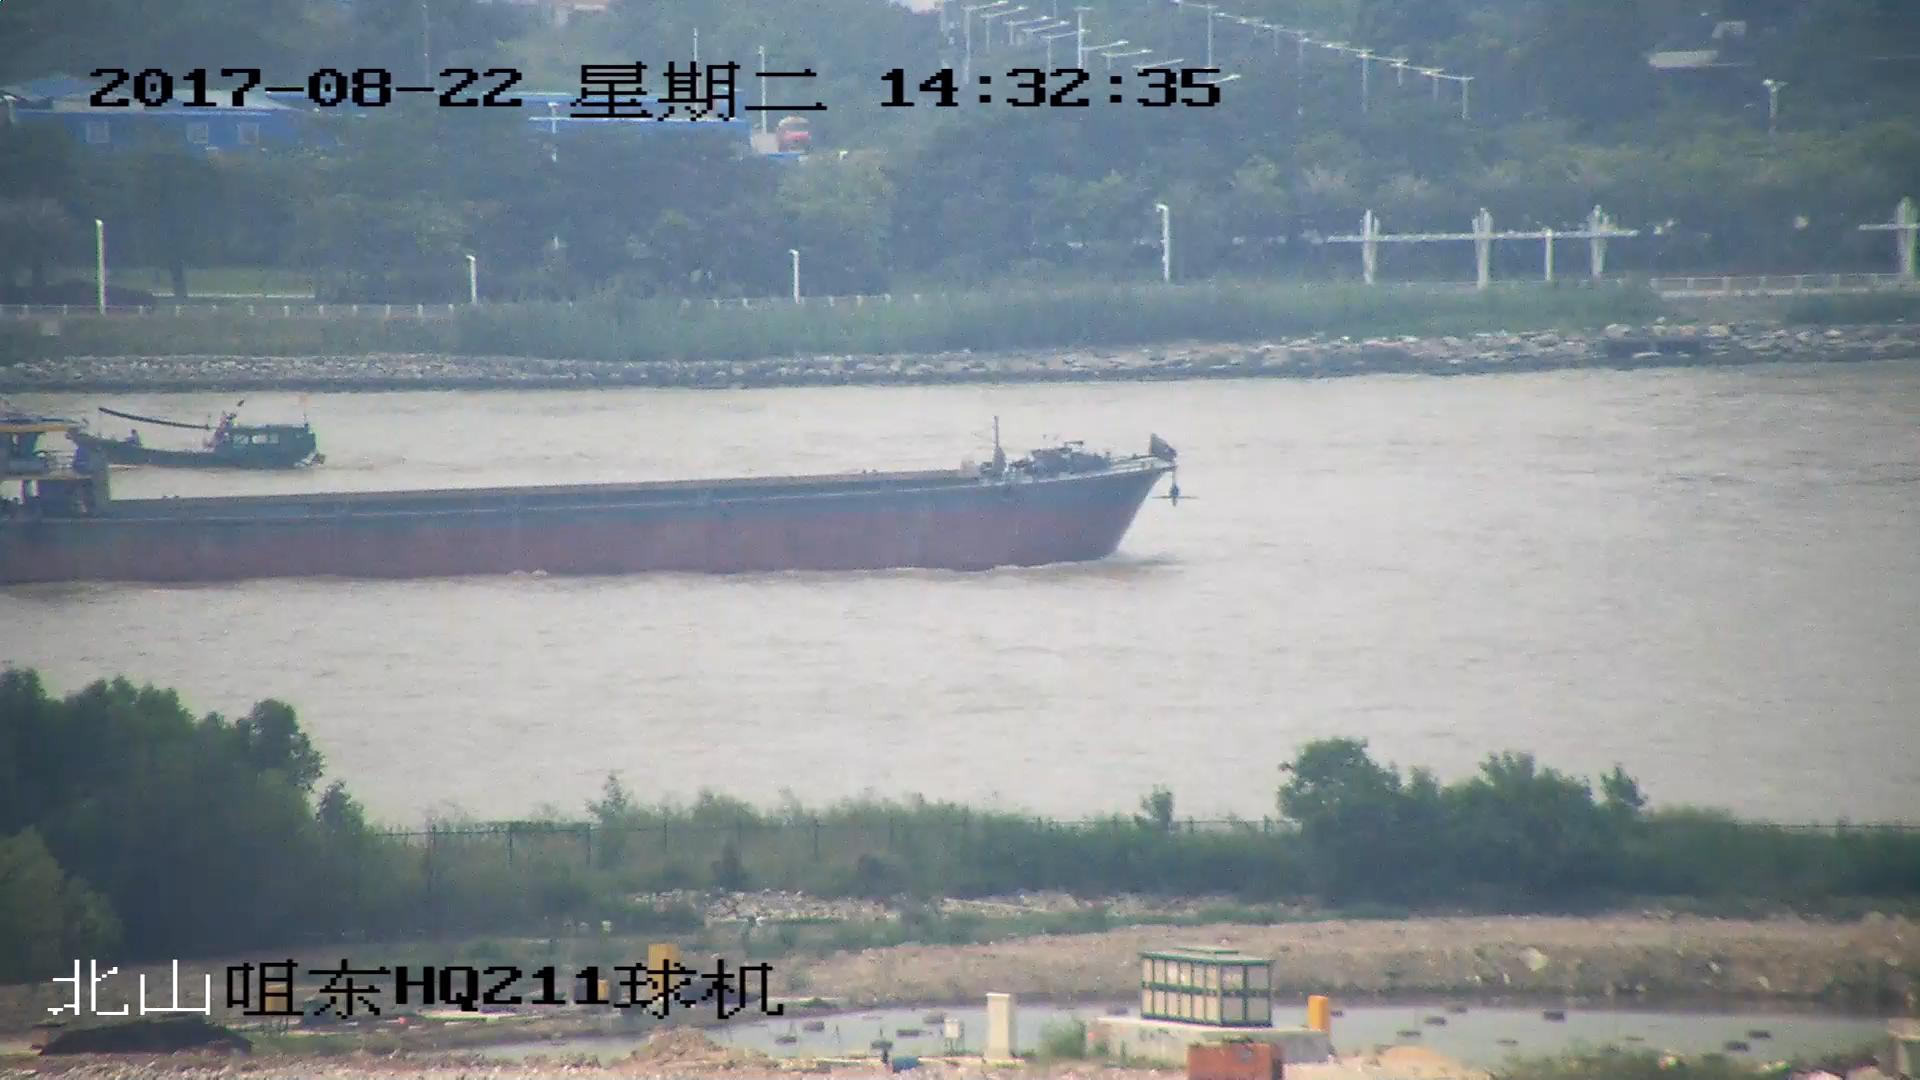bulk cargo carrier: (1, 399, 1178, 586)
fishing boat: (67, 410, 327, 474)
